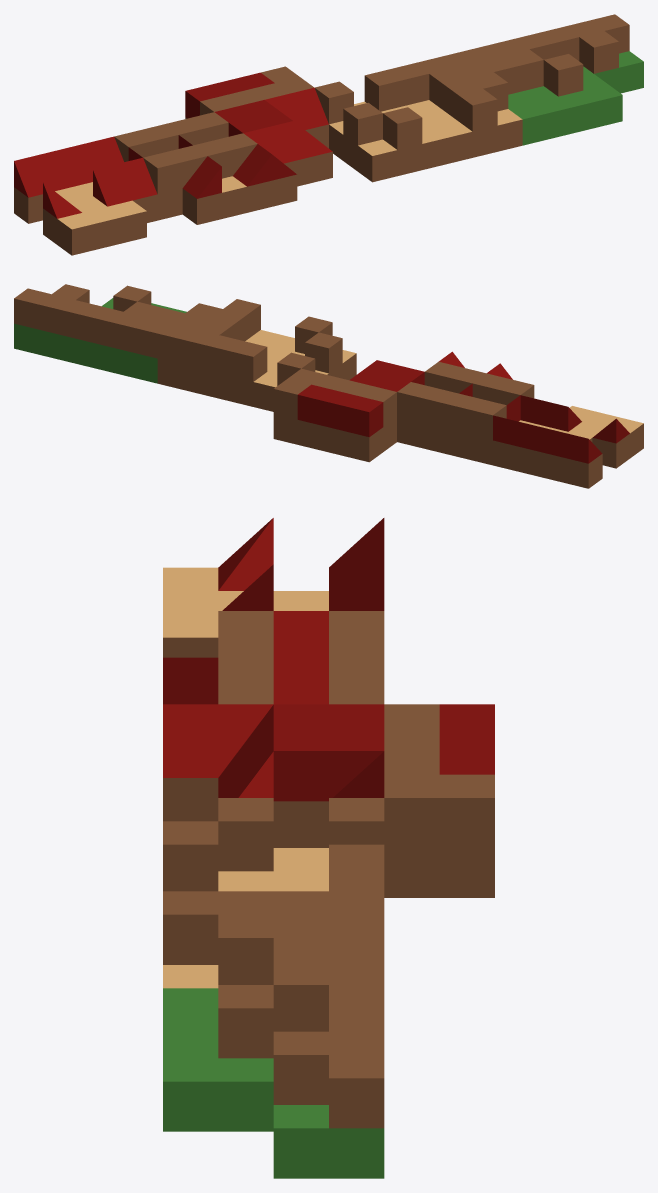
Rendered from house.glb.
The picture shows the model from 3 angles, top to bottom: view 1: azimuth 30°, elevation 25°; view 2: azimuth 150°, elevation 25°; view 3: azimuth 270°, elevation 25°; orthographic projection. The views are drawn at different scales.
Parts seen in each view (by area): view 1: Cube.027, Cube.021, Cube.008, Cube.019, Cube.025, Cube.009, Cube.011, Cube.023, Cube.024, Cube.014, Cube.007, Cube.001 (+13 smaller); view 2: Cube.028, Cube.004, Cube.029, Cube.003, Cube.007, Cube.011, Cube.020, Cube.018, Cube.010, Cube.024, Cube.022, Cube.027 (+9 smaller); view 3: Cube.011, Cube.029, Cube.009, Cube.005, Cube.008, Cube.014, Cube.027, Cube.003, Cube.018, Cube.021, Cube.025, Cube.004 (+12 smaller).
Part boxes in pixels (left/top/right/bottom): Cube.027: left=343, top=102, right=422, bottom=182; Cube.021: left=143, top=145, right=221, bottom=224; Cube.008: left=443, top=72, right=522, bottom=157; Cube.019: left=193, top=133, right=272, bottom=218; Cube.025: left=43, top=182, right=121, bottom=255; Cube.009: left=543, top=54, right=622, bottom=133; Cube.011: left=565, top=14, right=643, bottom=93; Cube.023: left=93, top=157, right=157, bottom=243; Cube.024: left=14, top=149, right=92, bottom=223; Cube.014: left=243, top=121, right=307, bottom=206; Cube.007: left=364, top=63, right=443, bottom=115; Cube.001: left=508, top=86, right=572, bottom=145; Cube.028: left=321, top=380, right=396, bottom=462; Cube.004: left=157, top=313, right=233, bottom=395; Cube.029: left=273, top=368, right=348, bottom=450; Cube.003: left=109, top=301, right=184, bottom=383; Cube.007: left=205, top=335, right=278, bottom=406; Cube.011: left=14, top=284, right=89, bottom=360; Cube.020: left=445, top=393, right=520, bottom=465; Cube.018: left=397, top=382, right=472, bottom=453; Cube.010: left=62, top=300, right=123, bottom=371; Cube.024: left=540, top=427, right=602, bottom=488; Cube.022: left=493, top=415, right=567, bottom=476; Cube.027: left=293, top=316, right=356, bottom=379; Cube.011: left=273, top=1031, right=384, bottom=1178; Cube.029: left=384, top=751, right=494, bottom=897; Cube.009: left=163, top=985, right=273, bottom=1131; Cube.005: left=273, top=704, right=384, bottom=847; Cube.008: left=163, top=891, right=273, bottom=988; Cube.014: left=163, top=704, right=273, bottom=821; Cube.027: left=163, top=798, right=273, bottom=891; Cube.003: left=273, top=938, right=384, bottom=1031; Cube.018: left=273, top=657, right=384, bottom=704; Cube.021: left=163, top=611, right=273, bottom=704; Cube.025: left=163, top=518, right=273, bottom=614; Cube.004: left=273, top=891, right=384, bottom=937.
Size of what is drawn, in the model's own units: 96 by 8 by 24.
